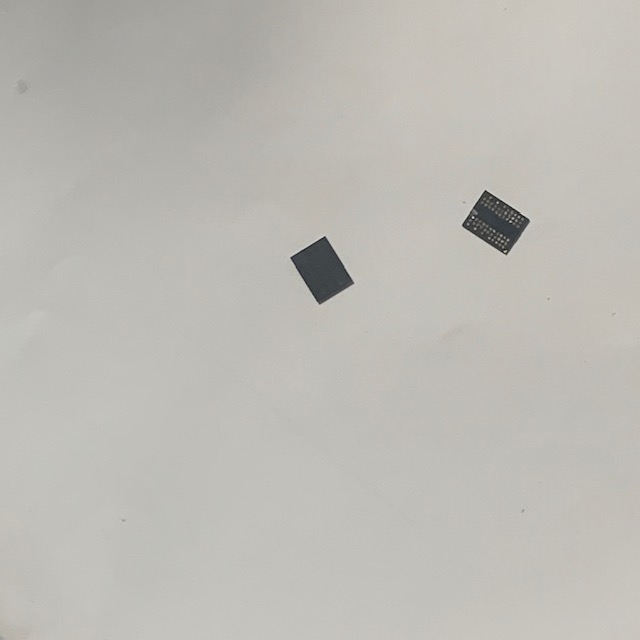IC: (460, 186, 532, 258), (286, 234, 357, 307)
